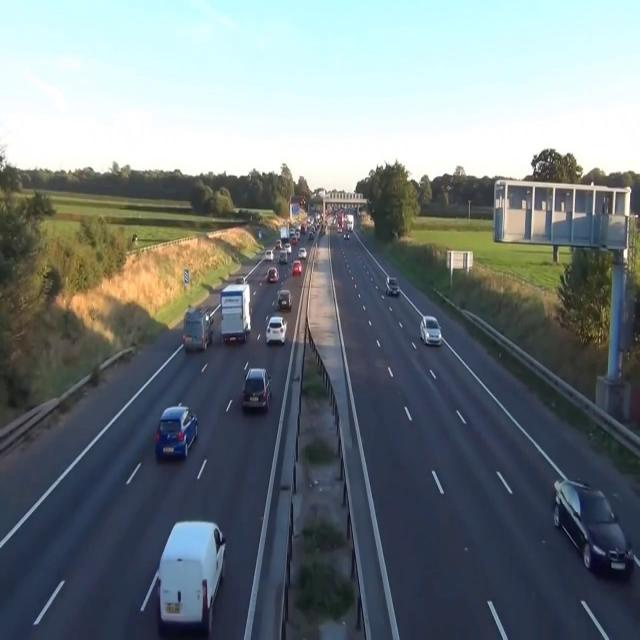belum terisi: (548, 461, 638, 603), (154, 510, 228, 637), (152, 400, 205, 468), (214, 274, 255, 350), (176, 301, 218, 360), (241, 358, 273, 421), (415, 306, 447, 362), (264, 310, 290, 352), (274, 281, 294, 320)
